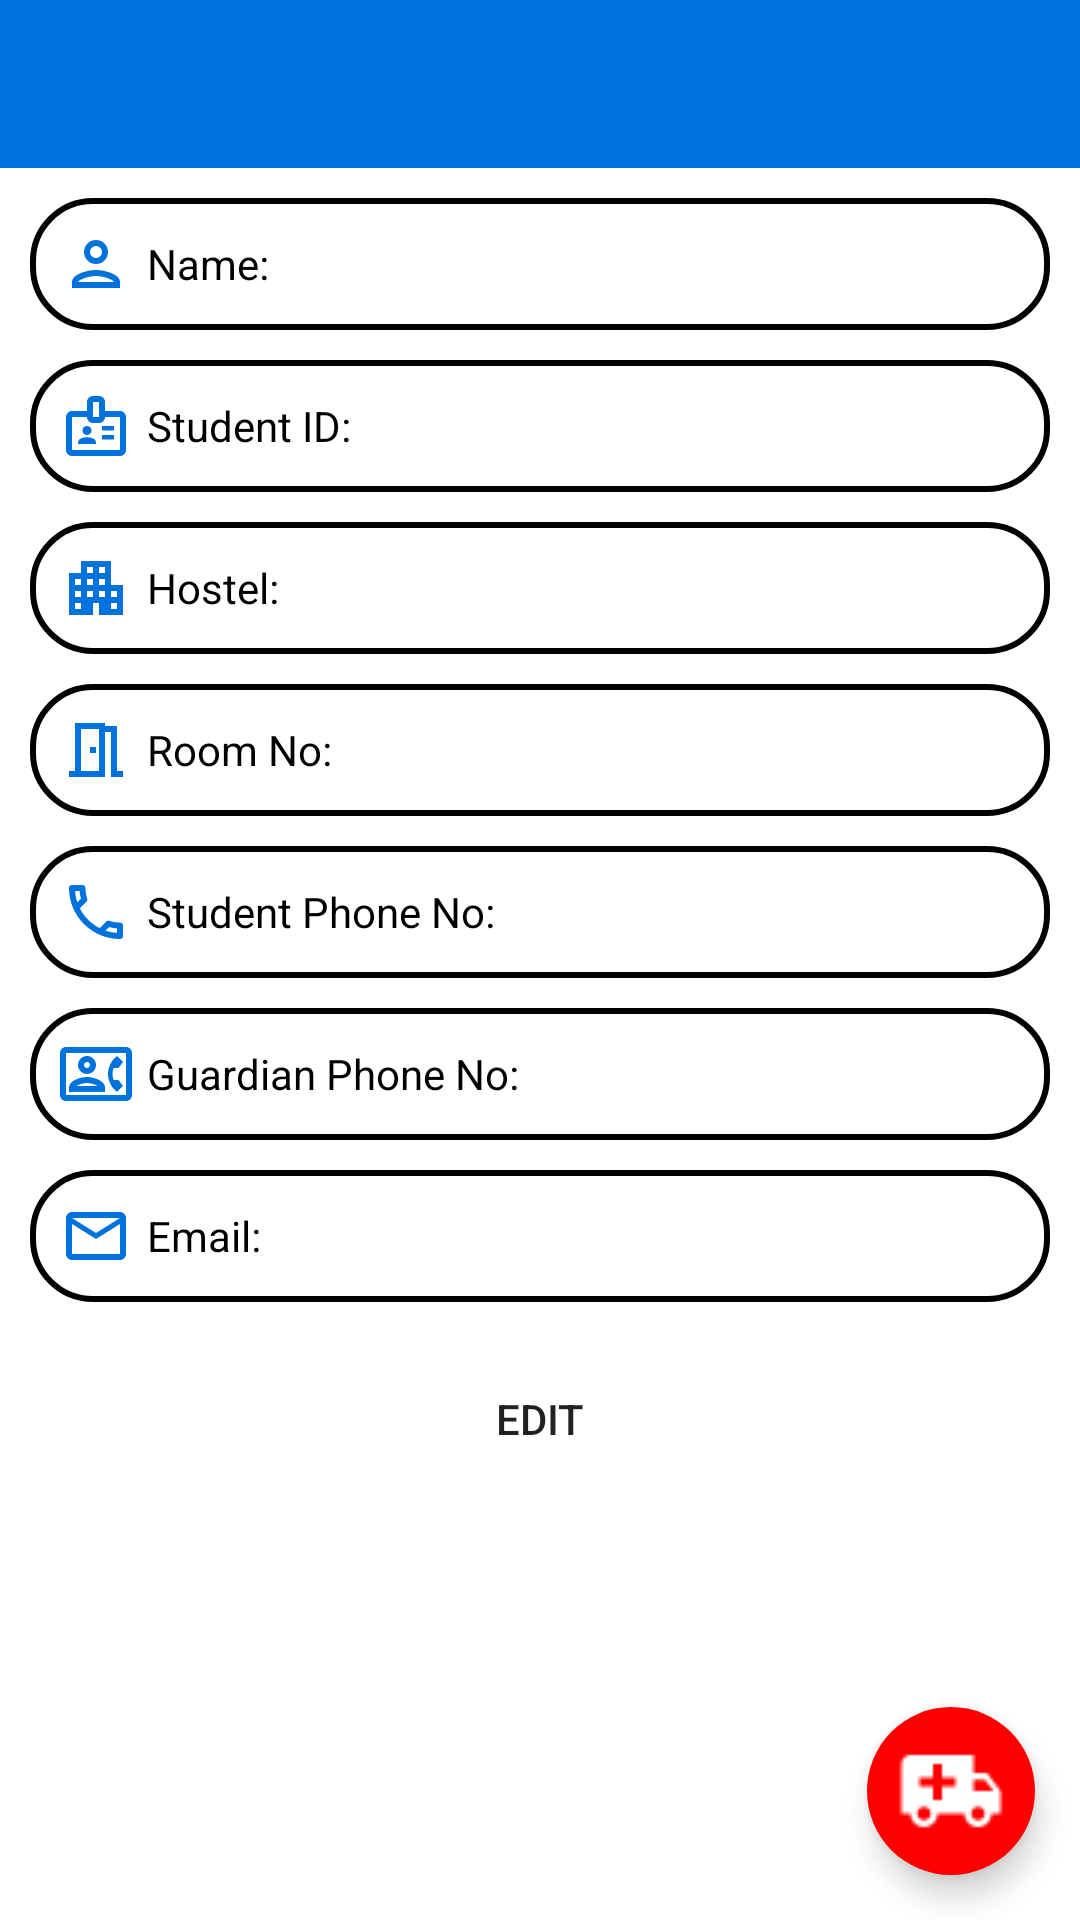

Where to tap for icons on this 1080px×1920px app screen, as (x,y):
ambulance: (951,1791)
